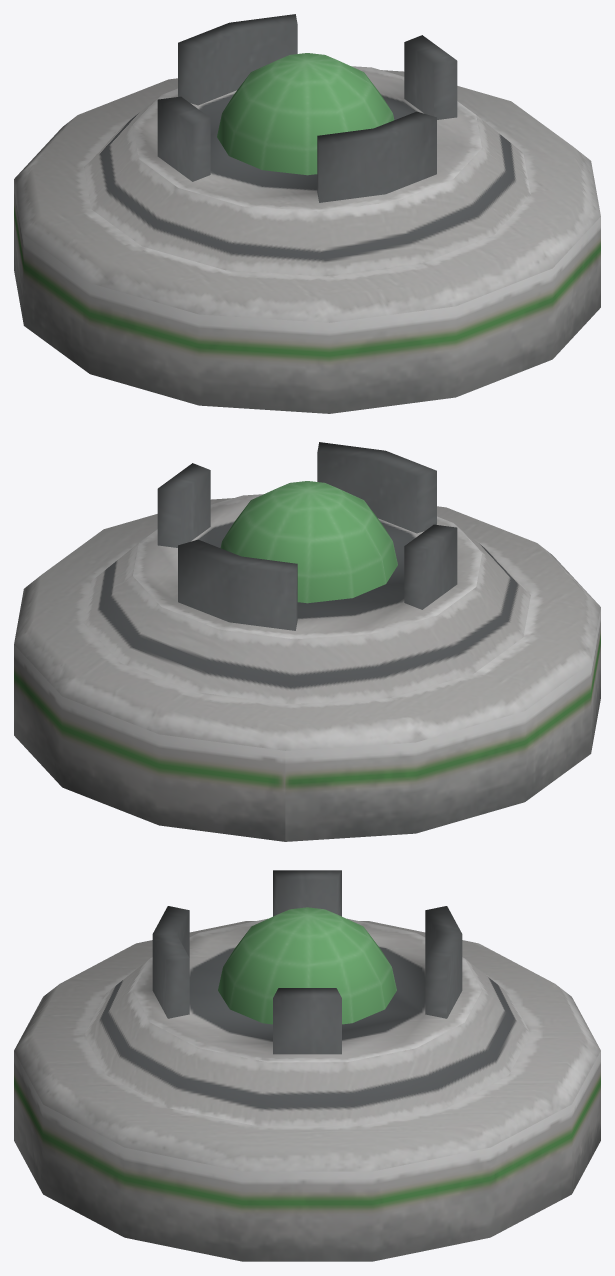
The model's file is MESH_PROJETOR_PROP.fbx.
3 views of the same model, one above another, from view 1: azimuth 30°, elevation 25°; view 2: azimuth 150°, elevation 25°; view 3: azimuth 270°, elevation 25° (orthographic).
Visible parts, largest first — view 1: MESH_PROJETOR_PROP; view 2: MESH_PROJETOR_PROP; view 3: MESH_PROJETOR_PROP.
Boxes of the visible parts, x1,y1,x2,y2 form: MESH_PROJETOR_PROP: (14,14,600,413); MESH_PROJETOR_PROP: (14,442,600,841); MESH_PROJETOR_PROP: (14,870,600,1261).
Bounding box in the file's own units: 1.95 × 0.8454 × 2.
